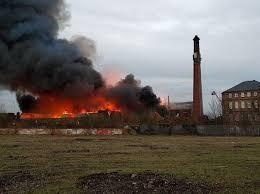fire: (19, 97, 125, 118), (158, 96, 167, 106)
